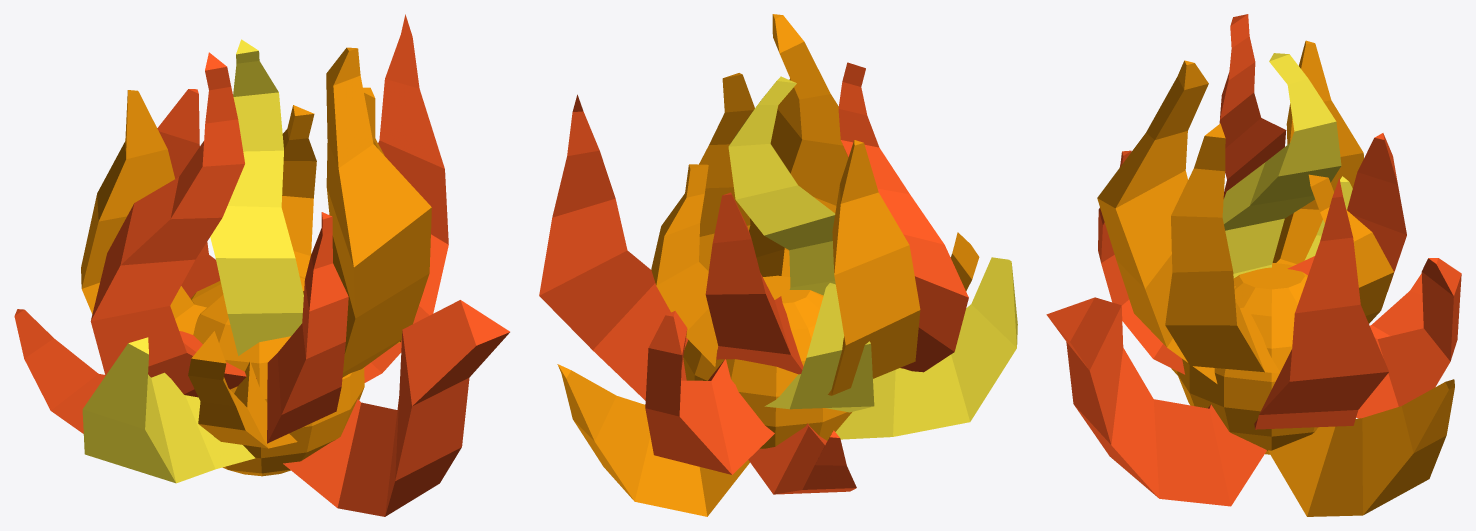
Rendered from fireball.glb.
3 views of the same model, side by side, from view 1: azimuth 30°, elevation 25°; view 2: azimuth 150°, elevation 25°; view 3: azimuth 270°, elevation 25° (orthographic). The views are drawn at different scales.
Parts seen in each view (by area): view 1: group167038055, group813435182, group702594773, group1602184737, group1012330263, group1190332235, group217930424, group1762201146, group1374064128, group1836525285, group1624860735, group2112811785 (+1 smaller); view 2: group217930424, group1762201146, group1012330263, group1501086520, group1602184737, group1746021426, group167038055, group702594773, group740134887, group1374064128, group2112811785, group300155229 (+3 smaller); view 3: group813435182, group217930424, group1746021426, group702594773, group627047762, group1602184737, group1374064128, group1501086520, group167038055, group740134887, group1762201146, group2112811785 (+3 smaller).
Part boxes in pixels (x1,y1,x2,y2): group167038055: [90, 52, 256, 397]; group813435182: [283, 300, 509, 516]; group702594773: [303, 47, 431, 377]; group1602184737: [210, 39, 303, 355]; group1012330263: [82, 337, 255, 483]; group1190332235: [267, 212, 348, 443]; group217930424: [364, 14, 448, 382]; group1762201146: [81, 90, 206, 334]; group1374064128: [191, 276, 364, 476]; group1836525285: [188, 331, 297, 448]; group1624860735: [14, 309, 105, 433]; group2112811785: [281, 105, 316, 277]; group217930424: [539, 94, 688, 400]; group1762201146: [828, 140, 920, 395]; group1012330263: [835, 257, 1017, 439]; group1501086520: [645, 311, 774, 474]; group1602184737: [728, 76, 835, 295]; group1746021426: [557, 364, 749, 516]; group167038055: [838, 62, 968, 372]; group702594773: [749, 14, 848, 277]; group740134887: [705, 192, 803, 374]; group1374064128: [683, 275, 851, 448]; group2112811785: [651, 164, 718, 366]; group300155229: [764, 283, 874, 412]; group813435182: [1046, 297, 1266, 506]; group217930424: [1254, 178, 1388, 429]; group1746021426: [1268, 379, 1454, 516]; group702594773: [1097, 60, 1235, 383]; group627047762: [1165, 123, 1279, 373]; group1602184737: [1222, 53, 1341, 278]; group1374064128: [1177, 263, 1317, 454]; group1501086520: [1356, 258, 1461, 418]; group167038055: [1219, 14, 1286, 198]; group740134887: [1287, 133, 1406, 291]; group1762201146: [1272, 40, 1363, 265]; group2112811785: [1308, 174, 1393, 323].
Bounding box in the file's own units: 0.3449 × 0.3738 × 0.3234.
